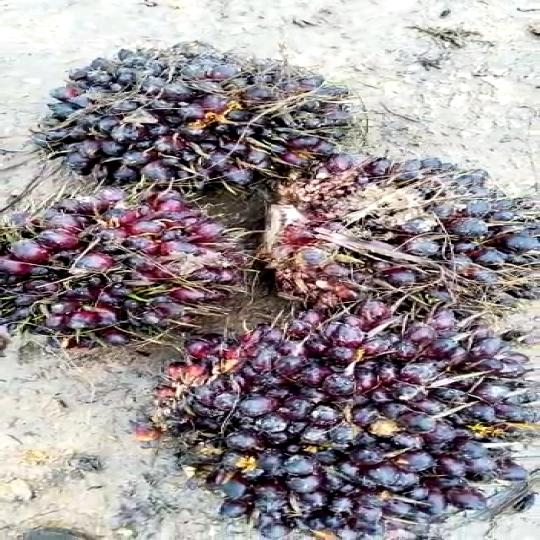kurang masak: (155, 303, 540, 539), (41, 36, 371, 205), (246, 153, 540, 306), (0, 193, 276, 348)
